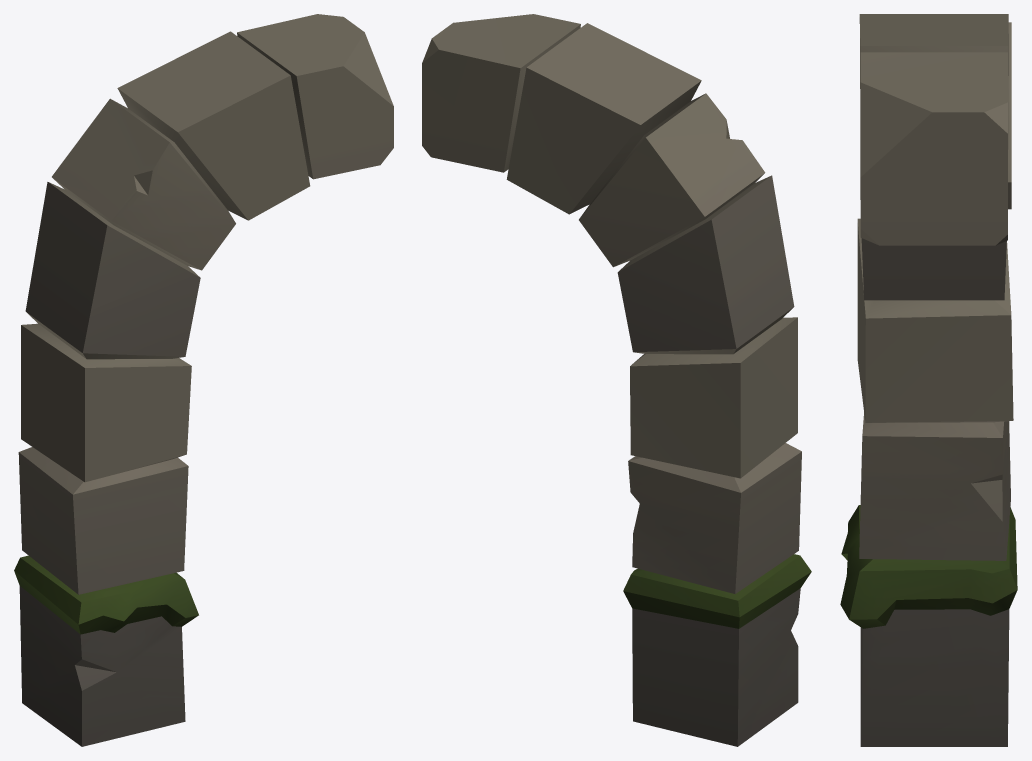
The picture shows the model from 3 angles, left to right: view 1: azimuth 30°, elevation 25°; view 2: azimuth 150°, elevation 25°; view 3: azimuth 270°, elevation 25°; orthographic projection. The views are drawn at different scales.
Visible parts, largest first — view 1: mff_ruins_broken_arch; view 2: mff_ruins_broken_arch; view 3: mff_ruins_broken_arch.
Part boxes in pixels (x1,y1,x2,y2): mff_ruins_broken_arch: (14,14,393,746); mff_ruins_broken_arch: (422,14,811,746); mff_ruins_broken_arch: (840,14,1017,746).
Bounding box in the file's own units: 2.36 × 4.37 × 0.9178.
Materials: 1 (1 with a texture image).
